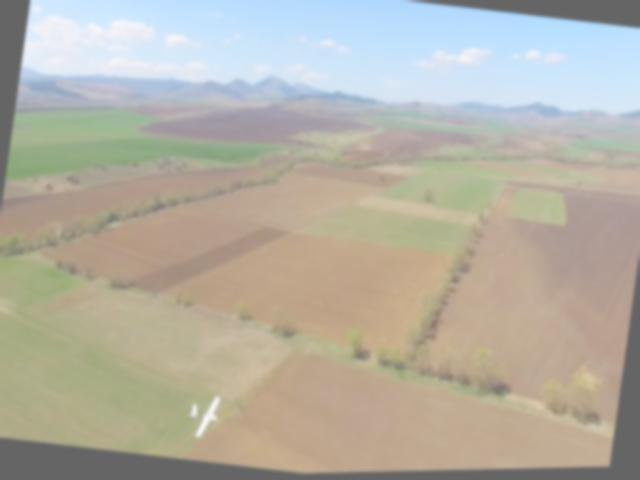uav: (182, 387, 228, 447)
